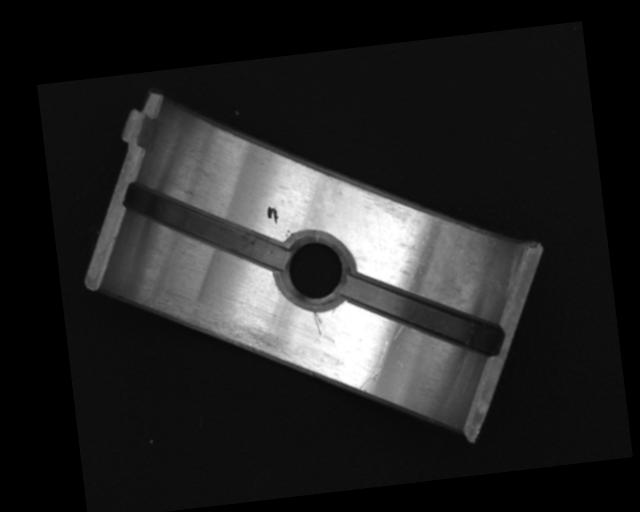blot: (266, 204, 279, 224)
gap: (121, 166, 287, 285), (343, 259, 505, 369)
hole: (271, 227, 358, 314)
nick: (353, 337, 395, 392), (313, 311, 323, 335)
scratch: (139, 282, 293, 378)
